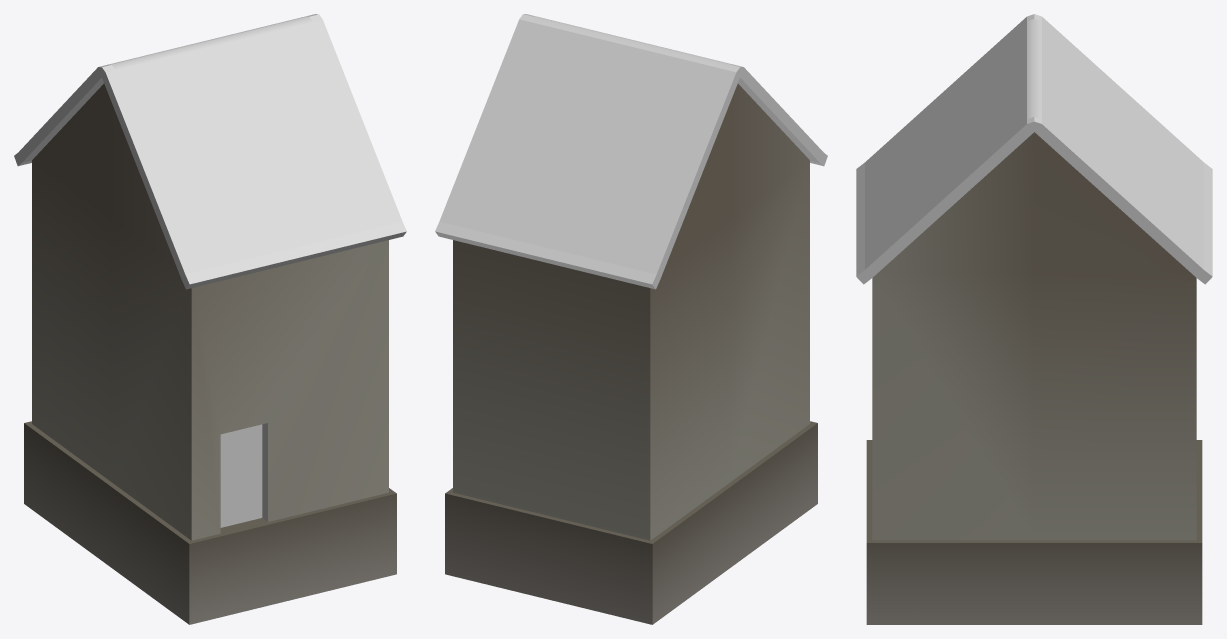
The model's file is Divided_medium.fbx.
The picture shows the model from 3 angles, left to right: view 1: azimuth 30°, elevation 25°; view 2: azimuth 150°, elevation 25°; view 3: azimuth 270°, elevation 25°; orthographic projection.
Visible parts, largest first — view 1: Base-RowHouse_A.004, Base-RowHouse_A.006, Base-RowHouse_A.001, Base-RowHouse_A.005, Base-RowHouse_A.008, Base-RowHouse_A.002, Base-RowHouse_A.009, Base-RowHouse_A, Base-RowHouse_A.007, Base-RowHouse_A.011, Base-RowHouse_A.003; view 2: Base-RowHouse_A.004, Base-RowHouse_A.006, Base-RowHouse_A.001, Base-RowHouse_A.005, Base-RowHouse_A.008, Base-RowHouse_A.009, Base-RowHouse_A, Base-RowHouse_A.007, Base-RowHouse_A.011; view 3: Base-RowHouse_A.004, Base-RowHouse_A.006, Base-RowHouse_A.001, Base-RowHouse_A.005, Base-RowHouse_A.008, Base-RowHouse_A.009, Base-RowHouse_A, Base-RowHouse_A.007.
Part boxes in pixels (x1,y1,x2,y2): Base-RowHouse_A.004: (32, 161, 388, 540); Base-RowHouse_A.006: (115, 22, 392, 271); Base-RowHouse_A.001: (24, 423, 396, 624); Base-RowHouse_A.005: (32, 83, 175, 265); Base-RowHouse_A.008: (99, 14, 402, 284); Base-RowHouse_A.002: (220, 424, 262, 527); Base-RowHouse_A.009: (14, 67, 406, 289); Base-RowHouse_A: (24, 421, 396, 543); Base-RowHouse_A.007: (108, 16, 312, 69); Base-RowHouse_A.011: (18, 78, 103, 166); Base-RowHouse_A.003: (262, 423, 267, 521); Base-RowHouse_A.004: (453, 161, 809, 540); Base-RowHouse_A.006: (449, 22, 726, 271); Base-RowHouse_A.001: (445, 423, 817, 624); Base-RowHouse_A.005: (666, 83, 809, 265); Base-RowHouse_A.008: (435, 14, 742, 284); Base-RowHouse_A.009: (435, 67, 827, 289); Base-RowHouse_A: (445, 421, 817, 543); Base-RowHouse_A.007: (529, 16, 733, 69); Base-RowHouse_A.011: (738, 78, 823, 166); Base-RowHouse_A.004: (872, 273, 1196, 540); Base-RowHouse_A.006: (865, 21, 1203, 264); Base-RowHouse_A.001: (866, 543, 1202, 624); Base-RowHouse_A.005: (878, 132, 1190, 272); Base-RowHouse_A.008: (856, 14, 1212, 276); Base-RowHouse_A.009: (856, 121, 1212, 284); Base-RowHouse_A: (866, 440, 1202, 542); Base-RowHouse_A.007: (1027, 19, 1041, 118).
Bounding box in the file's own units: 550 × 1206 × 771.
